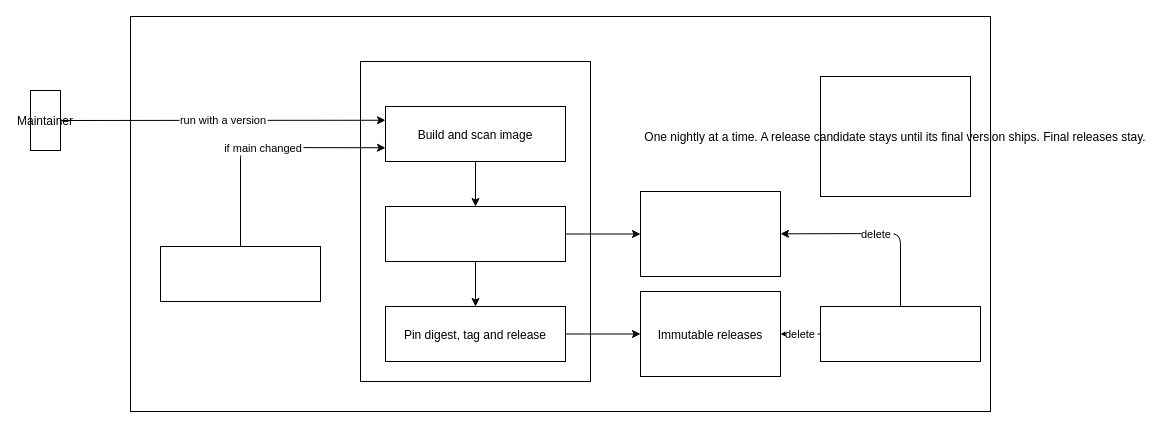
The diagram is 1162 pixels wide and 428 high, and some of its shapes have lost their labels. The shapes that lost their labels are listed below. From the top down, each one's box as (x1, y1, x2, y2) in pixels, then its label:
(384, 206, 566, 262): Push and attest
(640, 190, 780, 276): GHCR image and attestation
(160, 246, 320, 302): Nightly schedule
(820, 306, 980, 362): Clean up pre-releases
